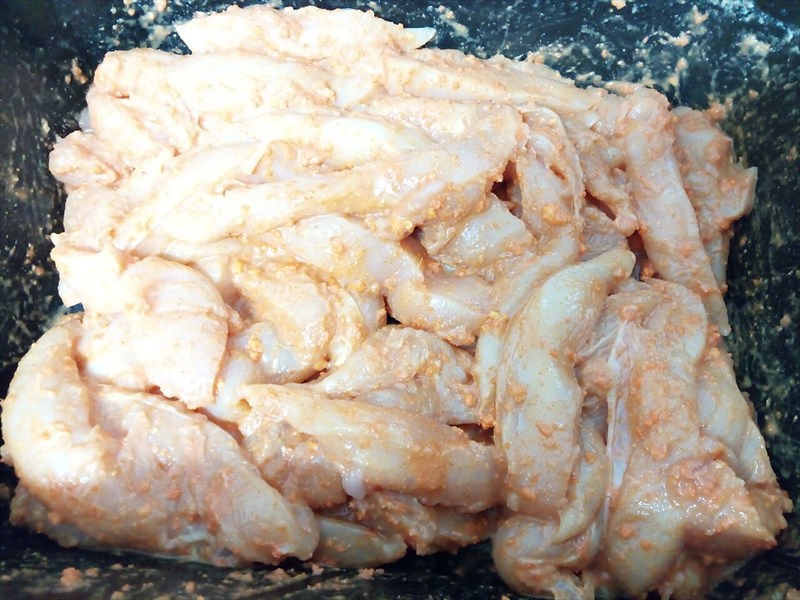Sate Ayam: (47, 29, 578, 451)
